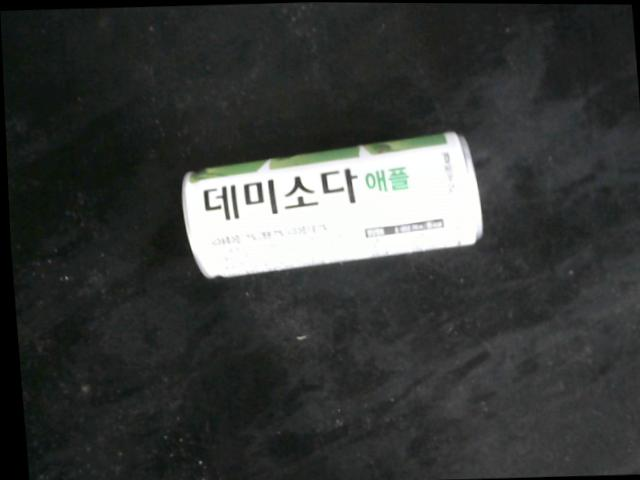can: (178, 130, 483, 280)
